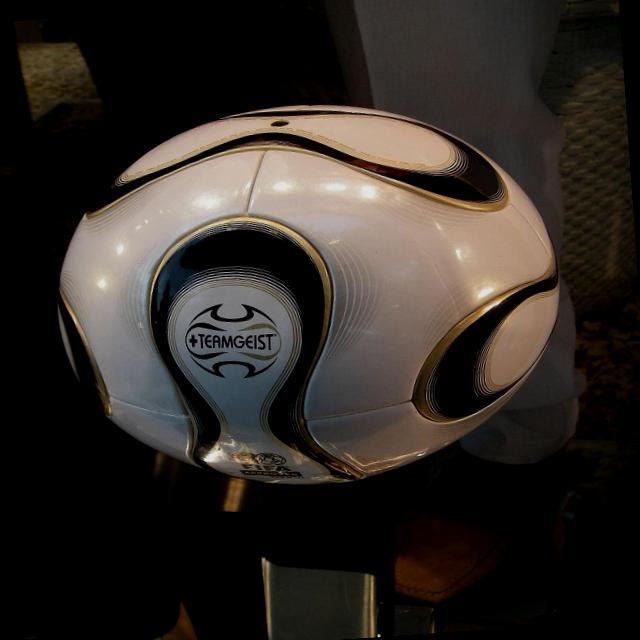Soccer Ball: (51, 86, 574, 499)
